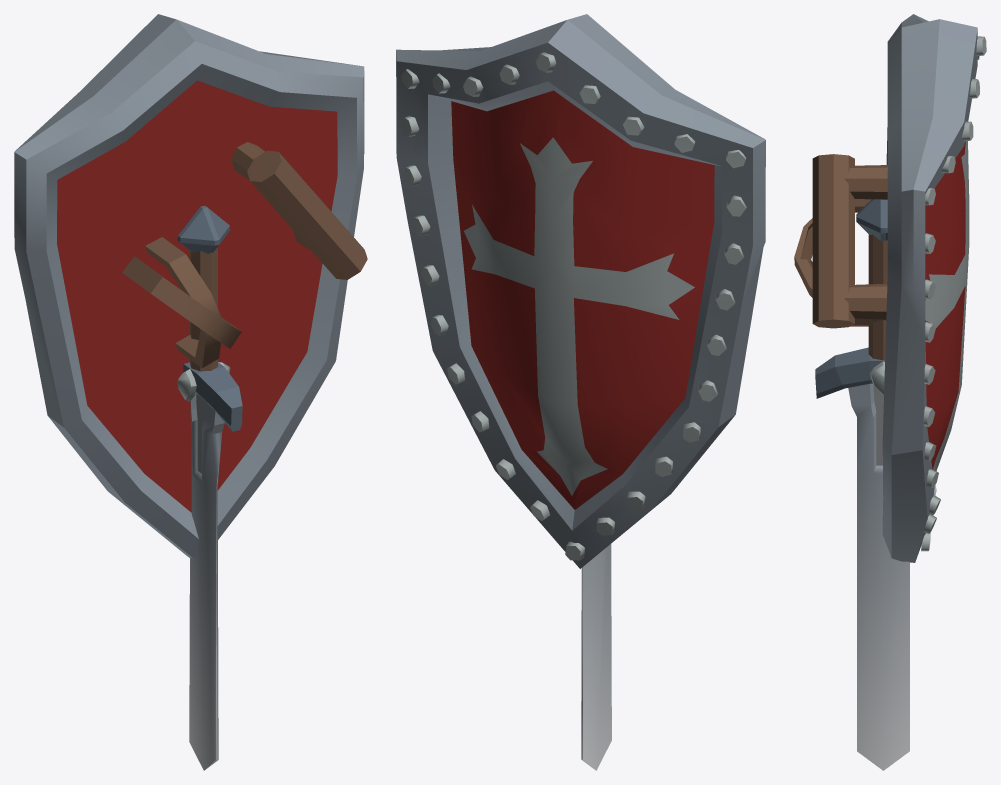
The model's file is War_T0_Weapon_v01.fbx.
3 views of the same model, side by side, from view 1: azimuth 30°, elevation 25°; view 2: azimuth 150°, elevation 25°; view 3: azimuth 270°, elevation 25° (orthographic). The views are drawn at different scales.
Visible parts, largest first — view 1: Shield, Sword; view 2: Shield, Sword; view 3: Shield, Sword.
Part boxes in pixels (x1=…): Shield: x1=14, y1=14, x2=367, y2=559; Sword: x1=177, y1=205, x2=242, y2=770; Shield: x1=396, y1=14, x2=765, y2=568; Sword: x1=581, y1=544, x2=611, y2=770; Shield: x1=794, y1=14, x2=986, y2=562; Sword: x1=815, y1=199, x2=909, y2=770.
Size of the model in its own units: 77.78 by 155 by 35.97.
